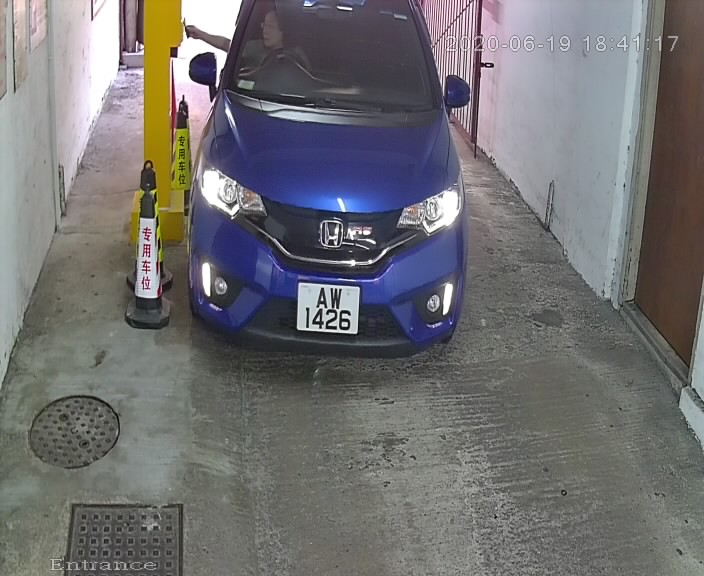privatecar: (159, 3, 486, 370)
